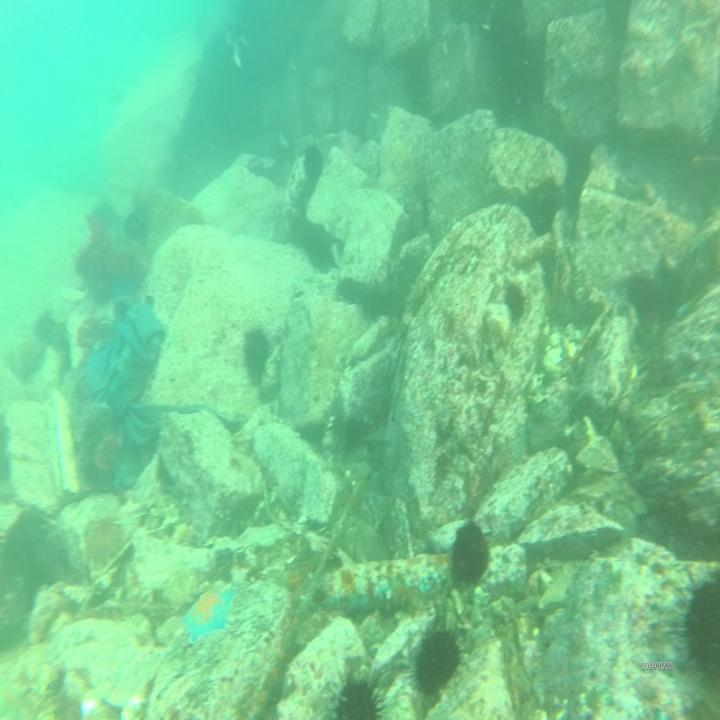echinus: (675, 563, 720, 674), (407, 627, 465, 698), (446, 522, 494, 586), (328, 669, 384, 720), (239, 324, 273, 383), (504, 280, 527, 324), (302, 142, 324, 180)
starfish: (180, 584, 233, 646)
